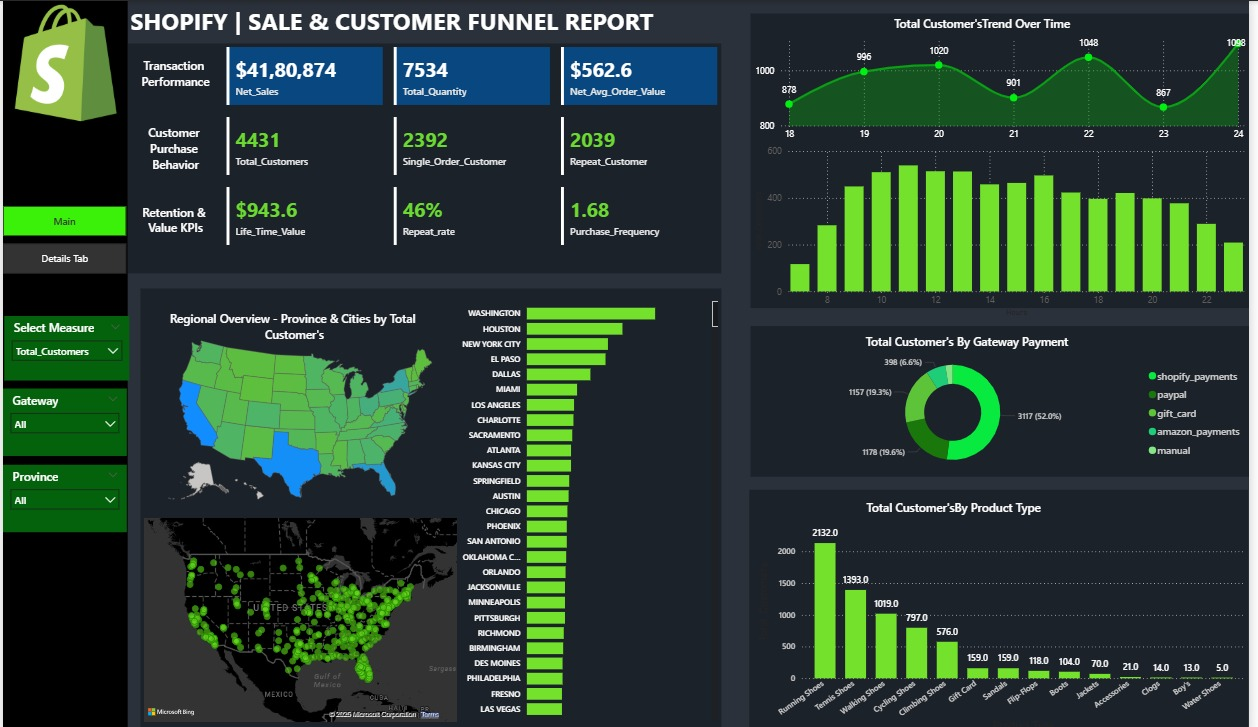

The page's visual inventory and layout, read from the dashboard file:
{"tool":"powerbi","page":{"name":"Main","canvas":[1700,1000],"ordinal":0},"visuals":[{"type":"shape","box":[0,0,170,999.5],"z":0},{"type":"textbox","box":[169.6,0,758.5,78.1],"z":1000},{"type":"shape","box":[170.1,58.2,809,313.4],"z":2000},{"type":"cardVisual","fields":{"Data":["shopify_sales.Net_Sales","shopify_sales.Total_Quantity","shopify_sales.Net_Avg_Order_Value"]},"box":[300,58.2,679.1,89.6],"z":3000},{"type":"card","fields":{"Values":["shopify_sales.Transaction_Perf"]},"box":[170.1,49.3,129.9,98.5],"z":4000},{"type":"cardVisual","fields":{"Data":["shopify_sales.Total_Customers","shopify_sales.Single_Order_Customer","shopify_sales.Repeat_Customer"]},"box":[300,153.7,679.1,89.6],"z":5000},{"type":"card","fields":{"Values":["shopify_sales.Customer_Purchase_Behavior"]},"box":[170.1,147.8,129.9,98.5],"z":6000},{"type":"cardVisual","fields":{"Data":["shopify_sales.Life_Time_Value","shopify_sales.Repeat_rate","shopify_sales.Purchase_Frequency"]},"box":[300,249.3,679.1,89.6],"z":7000},{"type":"card","fields":{"Values":["shopify_sales.Retention"]},"box":[170.1,249.3,129.9,98.5],"z":8000},{"type":"shape","box":[188,392,792,608],"z":9000},{"type":"shapeMap","fields":{"Value":["shopify_sales.Total_Customers"],"Category":["shopify_sales.Billing Address Province"]},"box":[188,446,436,250],"z":10000},{"type":"slicer","fields":{"Values":["Select Measure.Select Measure"]},"box":[2,429.7,170.7,88.4],"z":11000},{"type":"map","fields":{"Category":["shopify_sales.Location"]},"box":[188,700,436,288],"z":12000},{"type":"clusteredBarChart","fields":{"Y":["shopify_sales.Total_Customers"],"Category":["shopify_sales.CITY"]},"box":[608.4,397.6,371.5,590.4],"z":13000},{"type":"card","fields":{"Values":["shopify_sales.Map_title"]},"box":[170,398,454,90],"z":14000},{"type":"shape","box":[1019.6,17.6,680.4,402],"z":15000},{"type":"areaChart","fields":{"Y":["shopify_sales.Total_Customers"],"Category":["shopify_sales.Invoice Date.Variation.Date Hierarchy.Day"]},"box":[1021.6,39.2,678.4,160.8],"z":16000},{"type":"columnChart","fields":{"Y":["shopify_sales.Total_Customers"],"Category":["shopify_sales.Hours"]},"box":[1019.6,190.2,678.4,245.1],"z":17000},{"type":"card","fields":{"Values":["shopify_sales.Trend_Title"]},"box":[1062.7,0,543.1,64.7],"z":18000},{"type":"shape","box":[1019.6,443.1,680.4,205.9],"z":19000},{"type":"donutChart","fields":{"Y":["shopify_sales.Total_Customers"],"Category":["shopify_sales.Gateway"]},"box":[1023.5,474.5,676.5,174.5],"z":20000},{"type":"card","fields":{"Values":["shopify_sales.Gateway_Title"]},"box":[1043.1,435.3,543.1,64.7],"z":21000},{"type":"shape","box":[1017.6,666.7,680.4,333.3],"z":22000},{"type":"columnChart","fields":{"Y":["shopify_sales.Total_Customers"],"Category":["shopify_sales.Product Type"]},"box":[1023.5,700,674.5,300],"z":23000},{"type":"card","fields":{"Values":["shopify_sales.Project_Title"]},"box":[1024.1,660.6,544.2,64.3],"z":24000},{"type":"image","box":[2,0,168.7,168.7],"z":25000},{"type":"slicer","fields":{"Values":["shopify_sales.Gateway"]},"box":[0,528.1,168.7,92.4],"z":26000},{"type":"slicer","fields":{"Values":["shopify_sales.Billing Address Province"]},"box":[0,632.5,168.7,92.4],"z":27000},{"type":"pageNavigator","box":[0,279.1,168.7,92.4],"z":27001}]}

Visuals, with their boxes on the page's 1700x1000 design canvas (x1, y1, x2, y2). These are canvas units, not pixel positions in the 1258x727 screenshot, which may show the page scaled, cropped or inside an application window:
shape: 0/0/170/1000
textbox: 170/0/928/78
shape: 170/58/979/372
cardVisual - shopify_sales.Net_Sales x shopify_sales.Total_Quantity: 300/58/979/148
card - shopify_sales.Transaction_Perf: 170/49/300/148
cardVisual - shopify_sales.Total_Customers x shopify_sales.Single_Order_Customer: 300/154/979/243
card - shopify_sales.Customer_Purchase_Behavior: 170/148/300/246
cardVisual - shopify_sales.Life_Time_Value x shopify_sales.Repeat_rate: 300/249/979/339
card - shopify_sales.Retention: 170/249/300/348
shape: 188/392/980/1000
shapeMap - shopify_sales.Total_Customers x shopify_sales.Billing Address Province: 188/446/624/696
slicer - Select Measure.Select Measure: 2/430/173/518
map - shopify_sales.Location: 188/700/624/988
clusteredBarChart - shopify_sales.Total_Customers x shopify_sales.CITY: 608/398/980/988
card - shopify_sales.Map_title: 170/398/624/488
shape: 1020/18/1700/420
areaChart - shopify_sales.Total_Customers x shopify_sales.Invoice Date.Variation.Date Hierarchy.Day: 1022/39/1700/200
columnChart - shopify_sales.Total_Customers x shopify_sales.Hours: 1020/190/1698/435
card - shopify_sales.Trend_Title: 1063/0/1606/65
shape: 1020/443/1700/649
donutChart - shopify_sales.Total_Customers x shopify_sales.Gateway: 1024/474/1700/649
card - shopify_sales.Gateway_Title: 1043/435/1586/500
shape: 1018/667/1698/1000
columnChart - shopify_sales.Total_Customers x shopify_sales.Product Type: 1024/700/1698/1000
card - shopify_sales.Project_Title: 1024/661/1568/725
image: 2/0/171/169
slicer - shopify_sales.Gateway: 0/528/169/620
slicer - shopify_sales.Billing Address Province: 0/632/169/725
pageNavigator: 0/279/169/372
